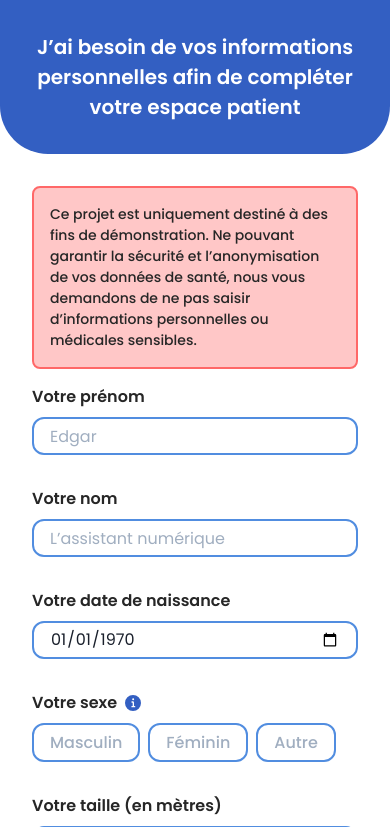
Test: Personal Info Page tests - Mobile › Working page › Error states › Bad birthdate (too old)
Type "1800-01-01" into the date field with id "edgar-onboardingPersonalPage-formBirthdate-input". click: x=195, y=640
box: [32, 621, 358, 659]
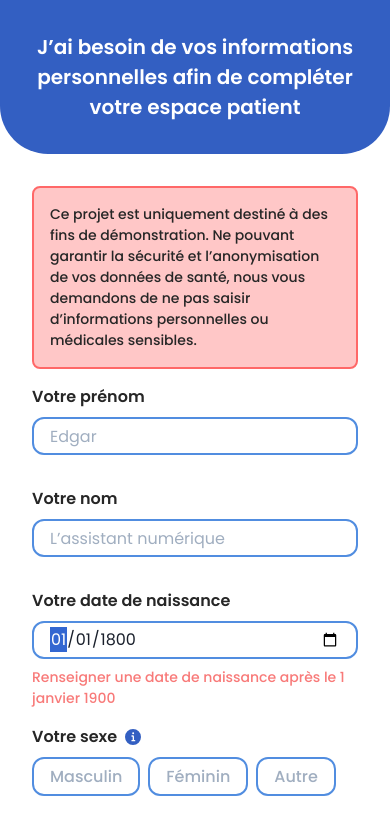
Result: the text with id "edgar-onboardingPersonalPage-formBirthdateErrorMin-text" reads "Renseigner une date de naissance après le 1 janvier 1900" at [32, 667, 358, 709]
